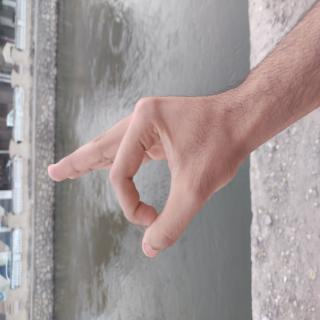Space: (42, 58, 179, 320)
